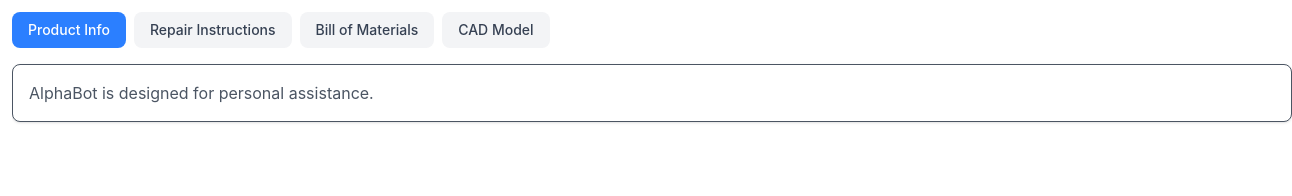
Tabs Component › switches between tabs correctly
expect the text "AlphaBot is designed for personal assistance." is shown: met, box [29,83,374,103]
# Click on Repair Instructions tab
What coordinates should you click on to do the following:
click the button "Repair Instructions"
I would click on:
 (213, 30)
Its box is [134,12,292,48].
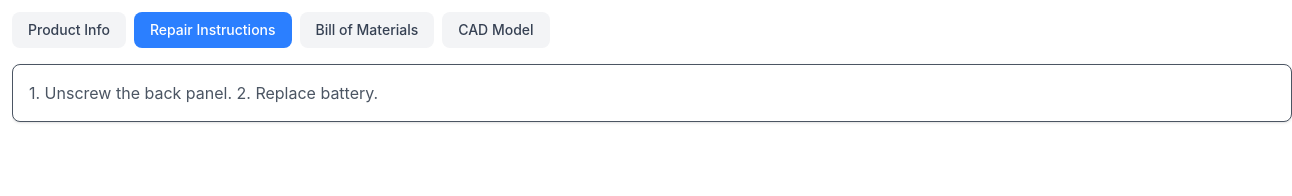
expect the text "1. Unscrew the back panel. 2. Replace battery." is shown: met, box [29,83,378,103]
# Click on Bill of Materials tab
What coordinates should you click on to do the following:
click the button "Bill of Materials"
I would click on:
 (367, 30)
Its box is [300,12,434,48].
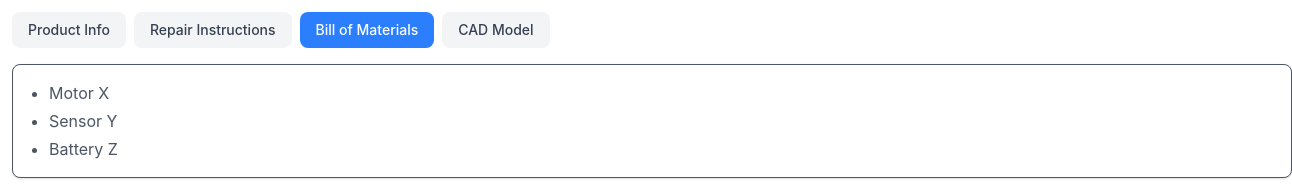
expect the list item "Motor X" is shown: met, box [49,83,109,103]
expect the list item "Sensor Y" is shown: met, box [49,111,118,131]
expect the list item "Battery Z" is shown: met, box [49,139,118,159]
# Click on CAD Model tab
What coordinates should you click on to do the following:
click the button "CAD Model"
I would click on:
 (496, 30)
Its box is [442,12,550,48].
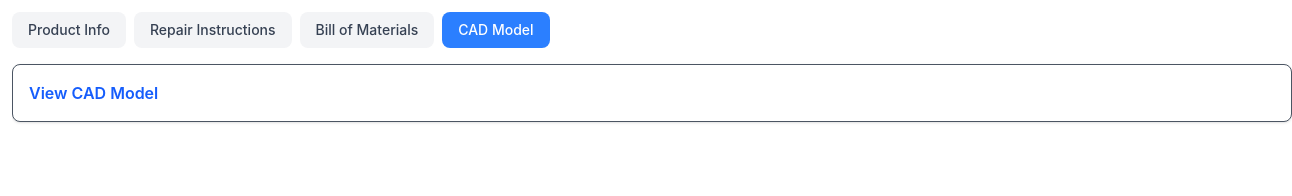
expect the link "View CAD Model" is shown: met, box [29,83,158,103]
